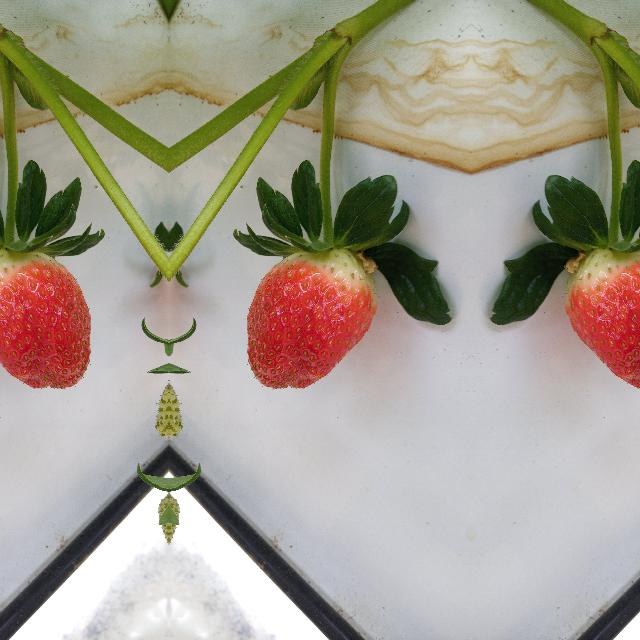Health_100: (244, 248, 378, 390), (0, 248, 92, 390), (563, 248, 640, 390)
